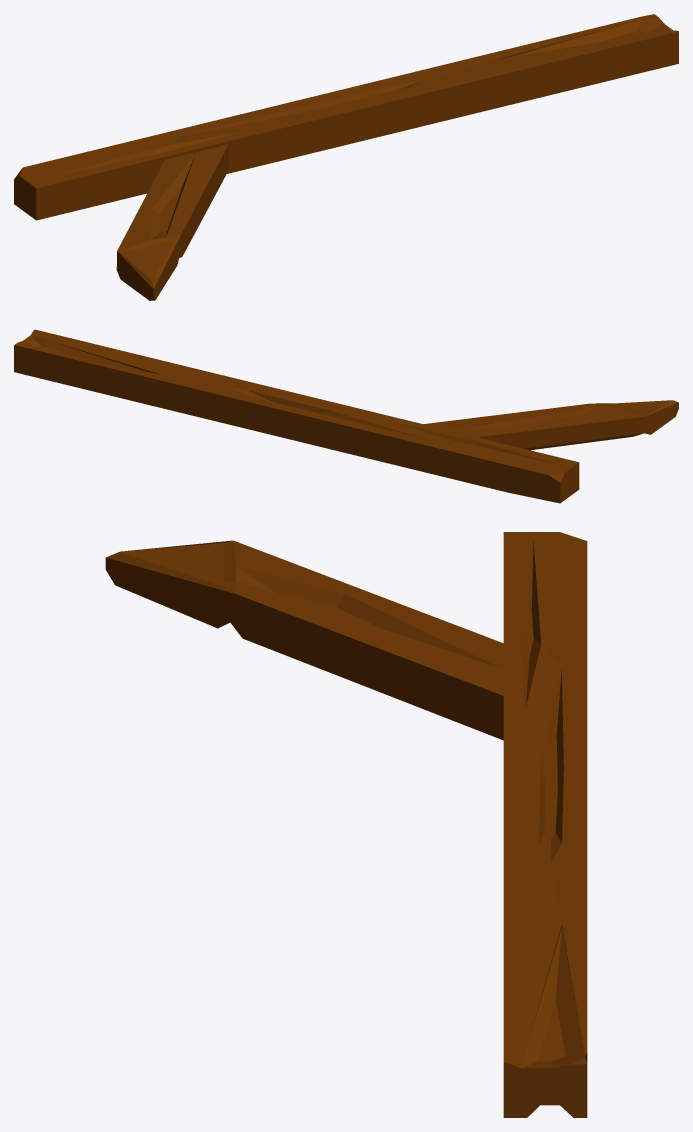
Rendered from Interior_BeamCorner1.fbx.
3 views of the same model, one above another, from view 1: azimuth 30°, elevation 25°; view 2: azimuth 150°, elevation 25°; view 3: azimuth 270°, elevation 25° (orthographic). The views are drawn at different scales.
Visible parts, largest first — view 1: Interior_BeamCorner1; view 2: Interior_BeamCorner1; view 3: Interior_BeamCorner1.
Boxes of the visible parts, x1,y1,x2,y2 form: Interior_BeamCorner1: (14,14,678,300); Interior_BeamCorner1: (14,329,678,503); Interior_BeamCorner1: (105,532,587,1117).
Bounding box in the file's own units: 200 × 9.6 × 76.6.
